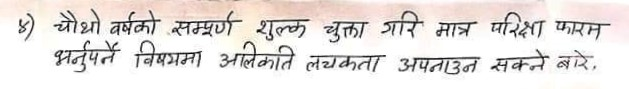text: (130, 41, 208, 73), (395, 48, 481, 77), (217, 41, 297, 72), (50, 39, 123, 72), (305, 47, 387, 75), (168, 7, 239, 38), (487, 45, 549, 77), (552, 14, 613, 41), (487, 13, 545, 39), (109, 9, 159, 39), (255, 13, 307, 40), (52, 9, 103, 36), (323, 14, 366, 44), (379, 9, 422, 38), (432, 17, 480, 41), (555, 46, 593, 72), (15, 14, 33, 36)
